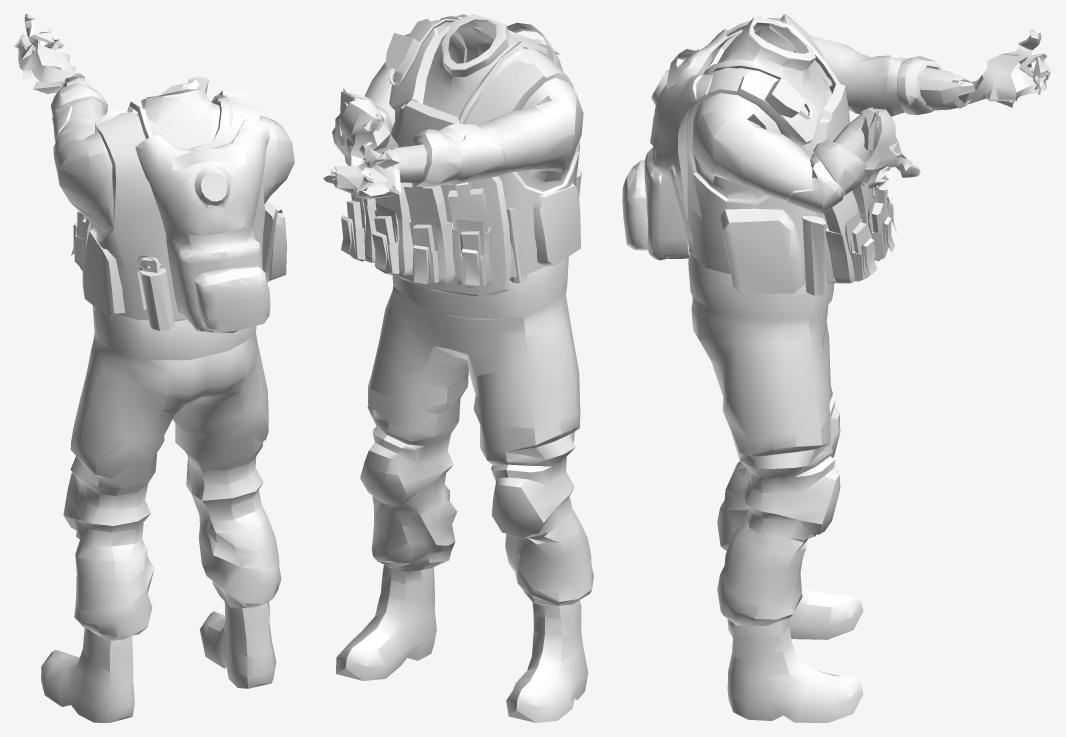
Rendered from stf_m4.glb.
The picture shows the model from 3 angles, left to right: view 1: azimuth 30°, elevation 25°; view 2: azimuth 150°, elevation 25°; view 3: azimuth 270°, elevation 25°; orthographic projection. The views are drawn at different scales.
Parts seen in each view (by area): view 1: body_STF, gear_STF; view 2: body_STF, gear_STF; view 3: body_STF, gear_STF.
Part boxes in pixels (x1,y1,x2,y2): body_STF: [14, 14, 294, 722]; gear_STF: [71, 90, 286, 333]; body_STF: [323, 14, 593, 722]; gear_STF: [341, 14, 581, 287]; body_STF: [681, 14, 1050, 722]; gear_STF: [622, 16, 897, 295].
Bounding box in the file's own units: 59.82 × 164 × 98.53.
Materials: 2 (2 with a texture image).
